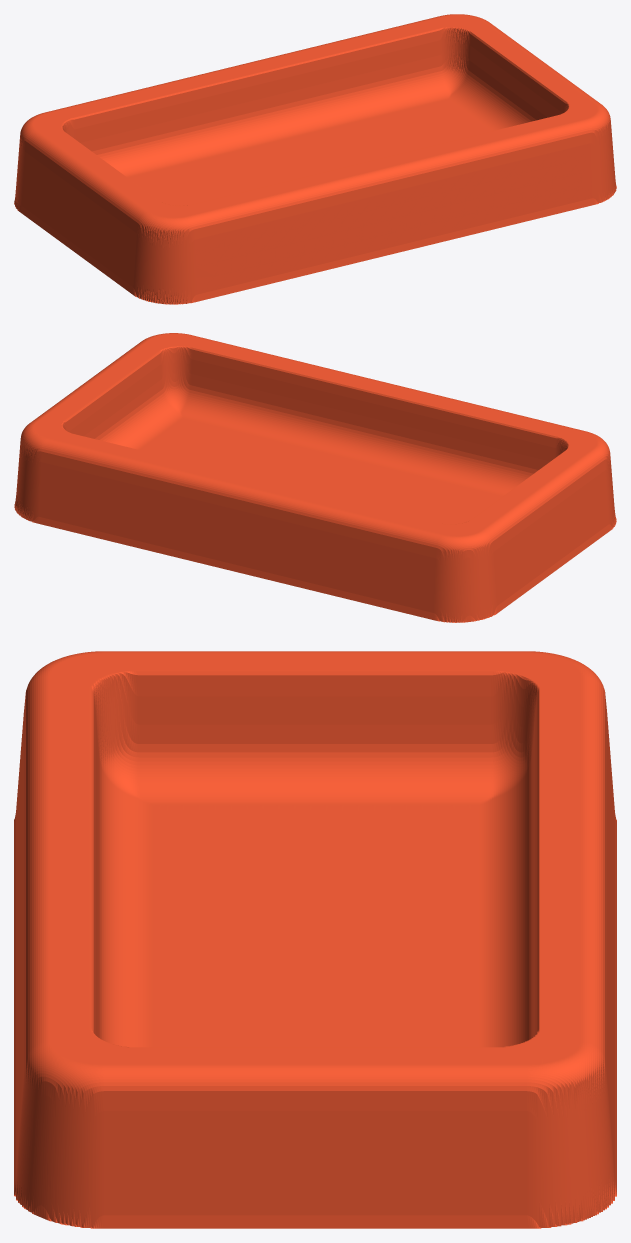
Rendered from mold.glb.
3 views of the same model, one above another, from view 1: azimuth 30°, elevation 25°; view 2: azimuth 150°, elevation 25°; view 3: azimuth 270°, elevation 25° (orthographic). The views are drawn at different scales.
Parts seen in each view (by area): view 1: geometry_0; view 2: geometry_0; view 3: geometry_0.
Part boxes in pixels (<box>): geometry_0: <box>14,14,616,304</box>; geometry_0: <box>14,333,616,622</box>; geometry_0: <box>14,651,616,1228</box>.
Size of the model in its own units: 0.105 by 0.0165 by 0.0606.
